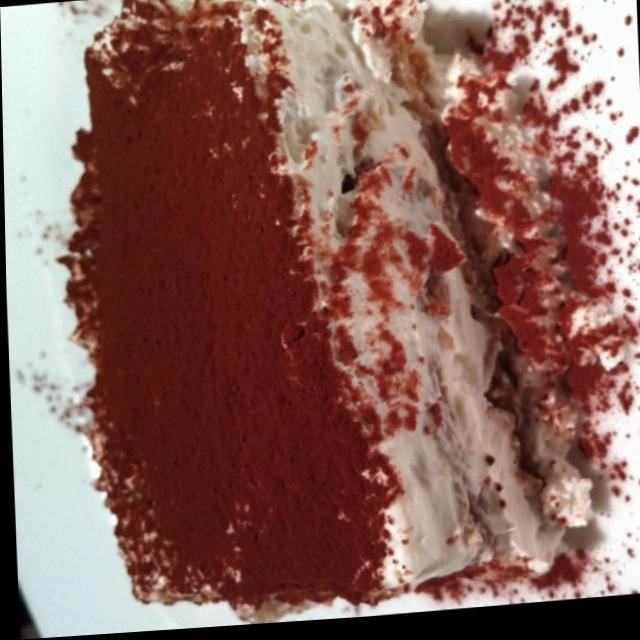蛋糕甜品: (0, 0, 638, 640)
